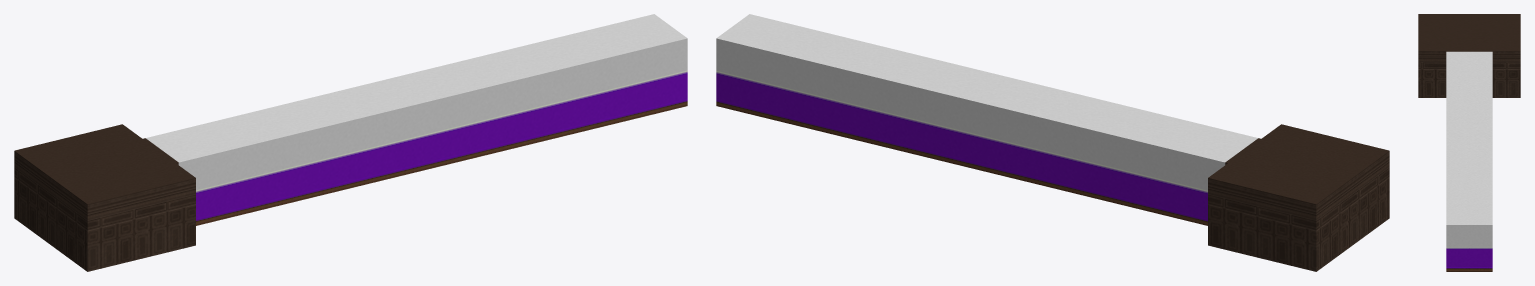
Rendered from End Room.fbx.
The picture shows the model from 3 angles, left to right: view 1: azimuth 30°, elevation 25°; view 2: azimuth 150°, elevation 25°; view 3: azimuth 270°, elevation 25°; orthographic projection. The views are drawn at different scales.
Visible parts, largest first — view 1: Cube; view 2: Cube; view 3: Cube.
Part boxes in pixels (x1,y1,x2,y2): Cube: (14,14,687,271); Cube: (716,14,1389,271); Cube: (1418,14,1520,271).
Bounding box in the file's own units: 16841 × 1756 × 3448.
